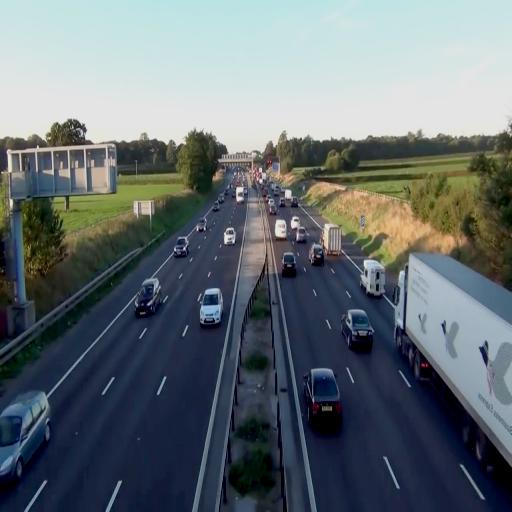vehicle: (393, 251, 512, 473), (0, 388, 52, 488), (306, 366, 342, 428), (342, 308, 374, 352), (134, 278, 162, 318), (360, 258, 386, 297), (198, 288, 224, 326), (361, 258, 386, 297), (322, 221, 342, 259), (281, 251, 298, 277), (310, 242, 324, 264), (174, 237, 188, 257), (274, 218, 286, 240), (224, 226, 236, 244), (197, 222, 206, 232)
